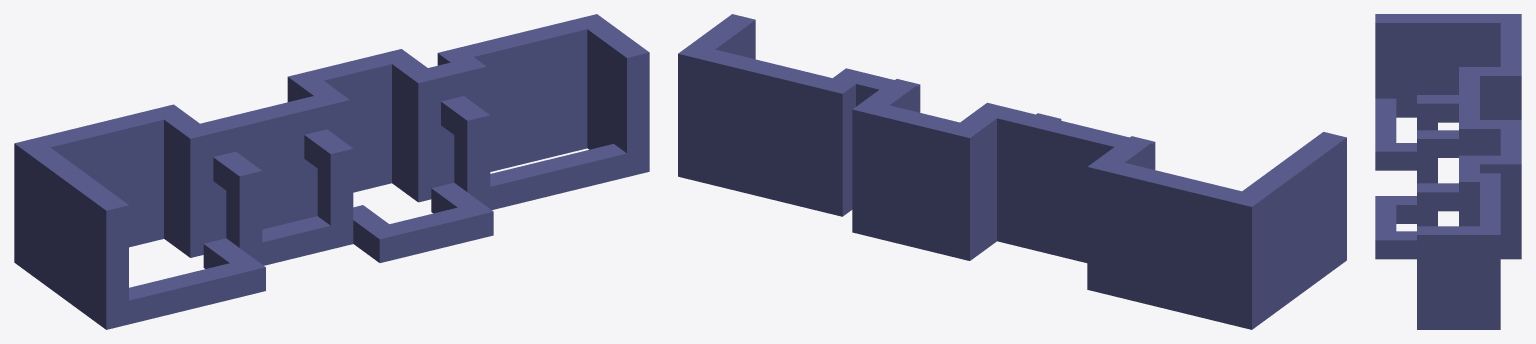
The model's file is walls.dae.
3 renders of one model, left to right at view 1: azimuth 30°, elevation 25°; view 2: azimuth 150°, elevation 25°; view 3: azimuth 270°, elevation 25°, orthographic. The views are drawn at different scales.
Parts seen in each view (by area): view 1: walls-top, walls-occlusion (×4), walls-base; view 2: walls-top, walls-base; view 3: walls-top, walls-occlusion (×4), walls-base.
Part boxes in pixels (box(x1,y1,x2,y2)): walls-top: box(14, 14, 649, 282); walls-occlusion (×4): box(129, 96, 626, 324); walls-base: box(14, 100, 649, 329); walls-top: box(678, 14, 1346, 280); walls-base: box(678, 127, 1346, 329); walls-top: box(1375, 14, 1521, 291); walls-occlusion (×4): box(1375, 95, 1458, 259); walls-base: box(1375, 79, 1521, 329).
Bounding box in the file's own units: 25 × 7 × 5.
